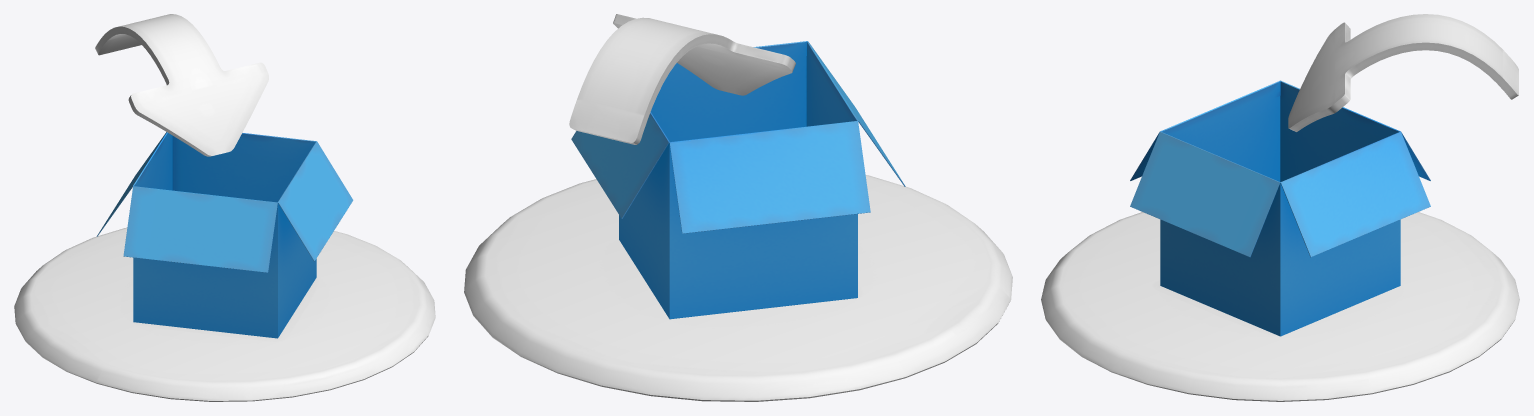
Rendered from download_box.glb.
The picture shows the model from 3 angles, left to right: view 1: azimuth 30°, elevation 25°; view 2: azimuth 150°, elevation 25°; view 3: azimuth 270°, elevation 25°; orthographic projection. The views are drawn at different scales.
Parts seen in each view (by area): view 1: Download; view 2: Download; view 3: Download.
Part boxes in pixels (x1,y1,x2,y2): Download: (14, 14, 435, 401); Download: (464, 14, 1012, 401); Download: (1041, 14, 1519, 401).
Bounding box in the file's own units: 5.64 × 3.55 × 5.64.
Materials: 1 (1 with a texture image).
